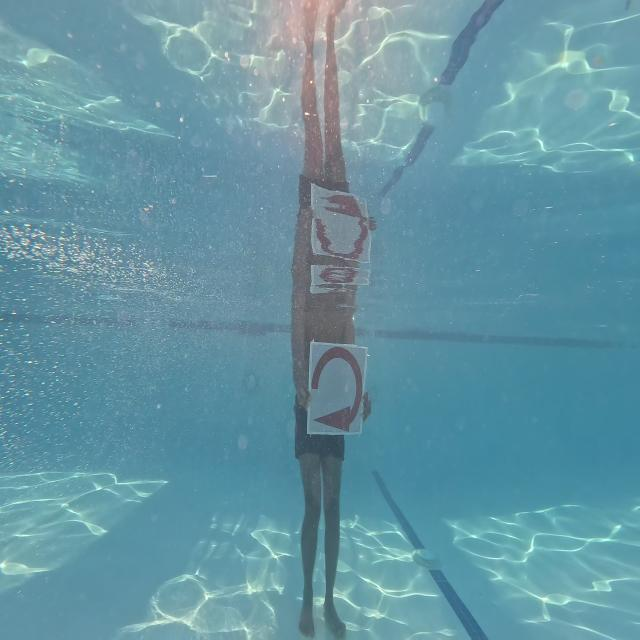red_side: (310, 338, 365, 436)
